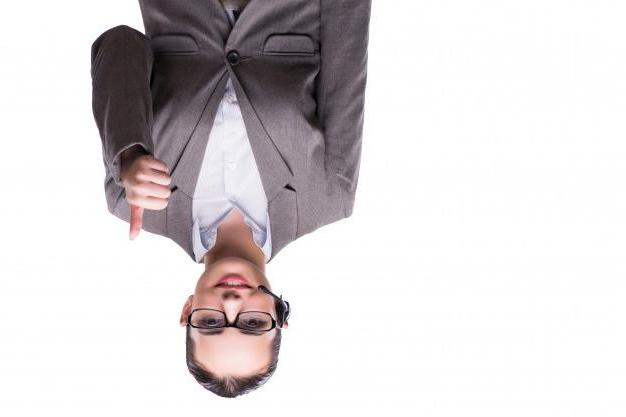thumbsdown: (127, 157, 171, 241)
